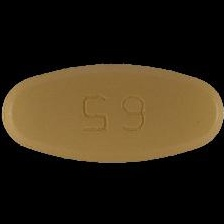63187-694: (0, 0, 224, 224)
